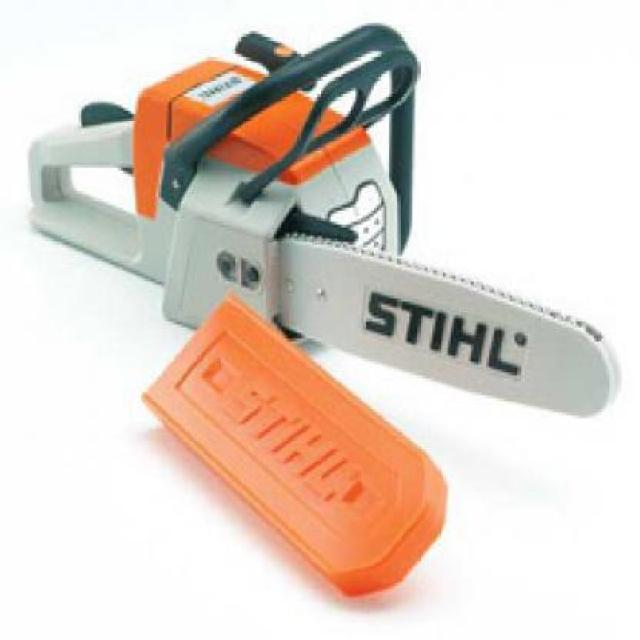Chainsaw: (29, 18, 623, 417)
